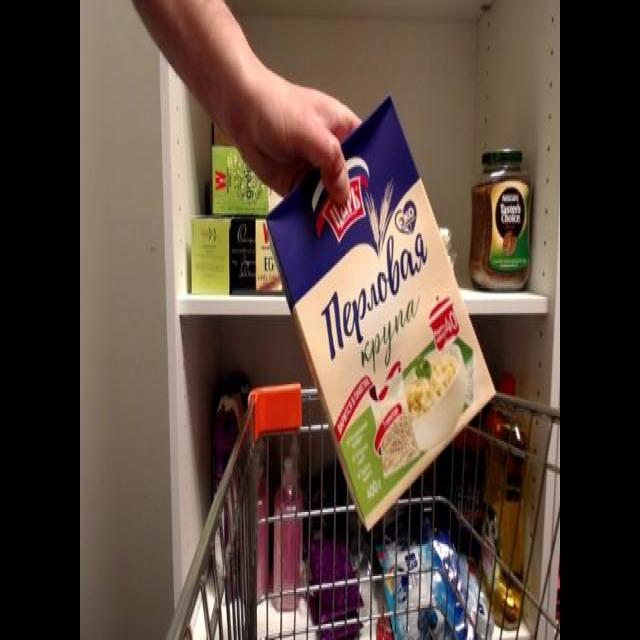Groats: (263, 85, 500, 539)
